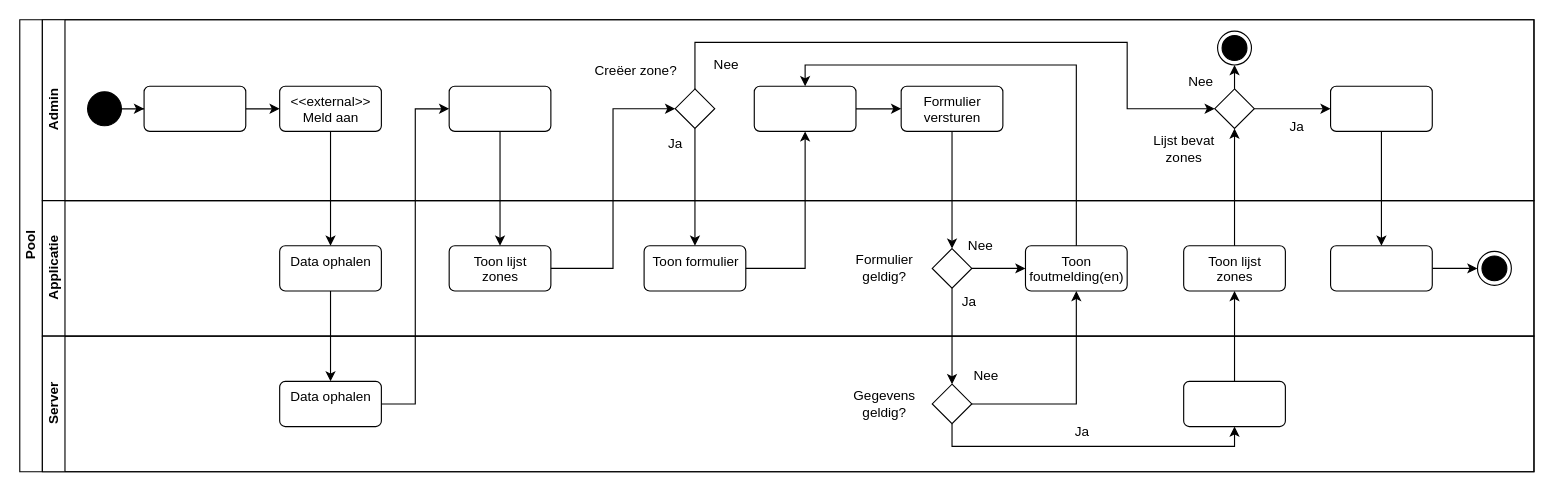
Some shapes in this 1554 by 492 pixel diagram are drawn without their labels. The centre of each missing label's shape, as x and y in pixels:
Bekijk lijst zones: [499,108]
Formulier invullen: [804,108]
Selecteer zone: [1380,108]
Site aanmaken: [1234,403]
Start applicatie: [194,108]
Toon details zone: [1380,268]
